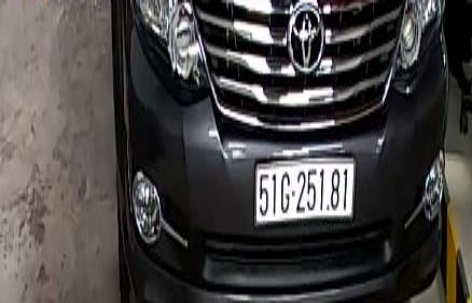plate: (248, 155, 363, 230)
